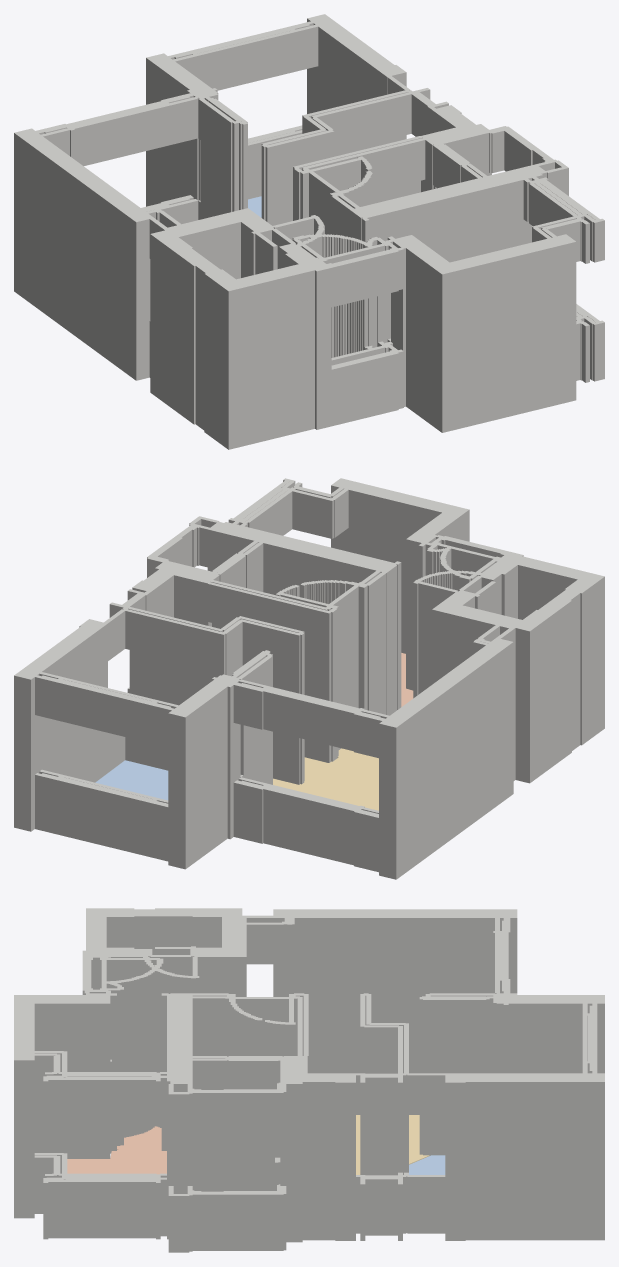
3 renders of one model, top to bottom at view 1: azimuth 30°, elevation 25°; view 2: azimuth 150°, elevation 25°; view 3: azimuth 270°, elevation 25°, orthographic. The views are drawn at different scales.
Parts seen in each view (by area): view 1: walls; view 2: walls, room:living:1, room:bedroom:0; view 3: walls, room:kitchen:5, room:living:1, room:bedroom:0.
Boxes of the visible parts, x1=… form: walls: x1=14, y1=14, x2=604, y2=449; walls: x1=14, y1=478, x2=604, y2=879; room:living:1: x1=273, y1=748, x2=378, y2=810; room:bedroom:0: x1=95, y1=760, x2=168, y2=800; walls: x1=14, y1=908, x2=604, y2=1252; room:kitchen:5: x1=67, y1=1126, x2=166, y2=1174; room:living:1: x1=356, y1=1115, x2=429, y2=1174; room:bedroom:0: x1=409, y1=1155, x2=445, y2=1174.
Bounding box in the file's own units: 7.05 × 2.8 × 9.48.
